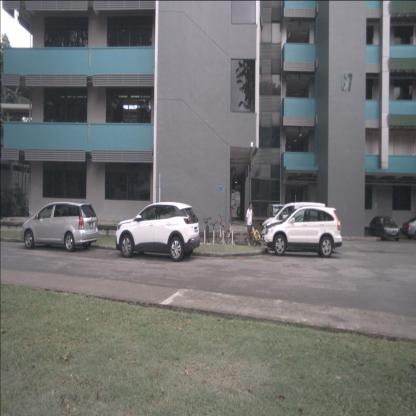human-pedestrian-adult: (244, 202, 255, 246)
vehicle-bicycle: (249, 221, 262, 249)
vehicle-car: (115, 197, 201, 263), (20, 199, 99, 251), (266, 206, 342, 259), (260, 202, 327, 252), (369, 216, 400, 243), (267, 204, 288, 234), (402, 215, 416, 240)
